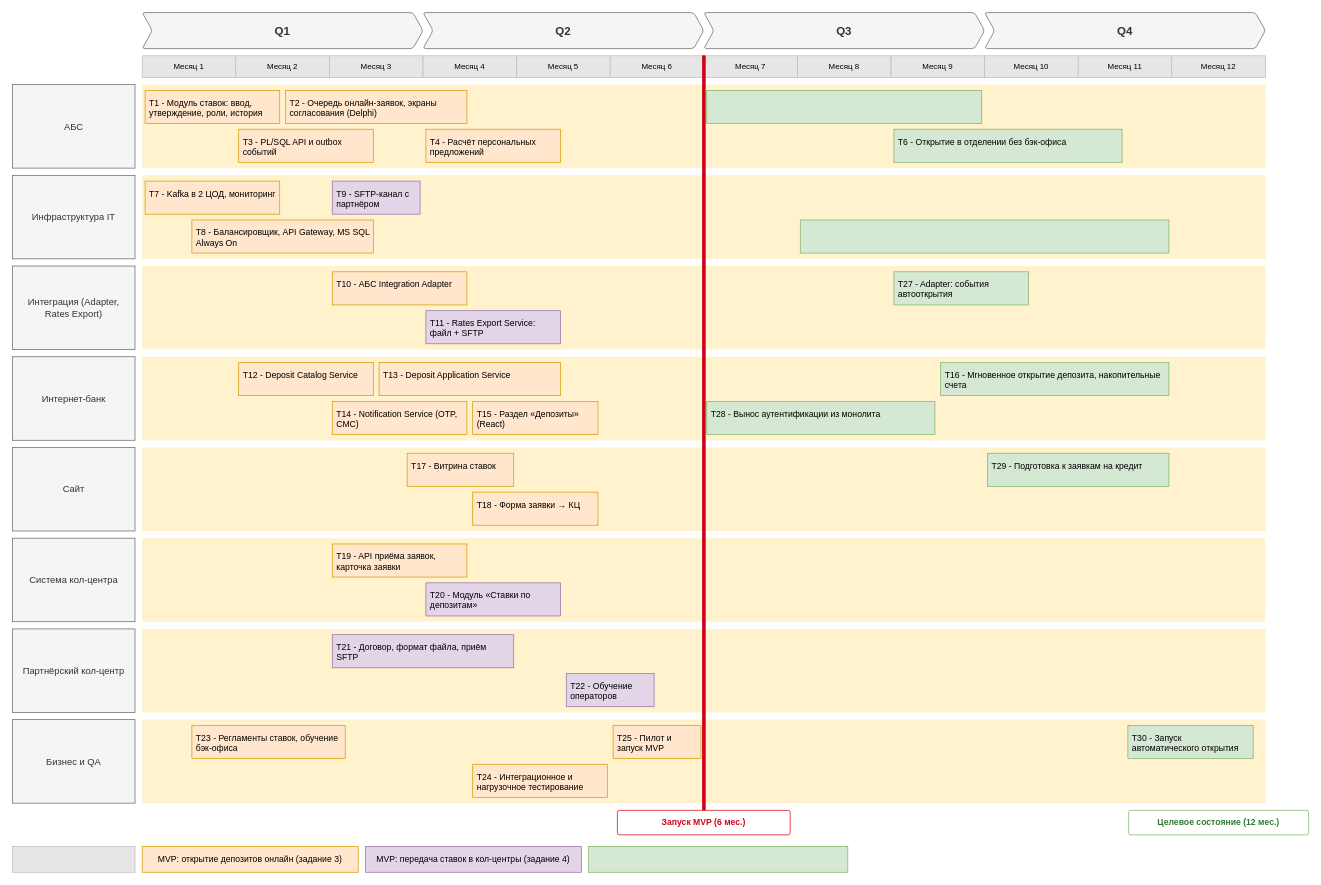
Some shapes in this 1321 by 885 pixel diagram are drawn without their labels. Each missing label, with the box of its shape:
T26 - Active-active ИБ в 2 ЦОД: (800, 219, 1169, 253)
T5 - Правила автосогласования ставки и автооткрытия депозита: (706, 90, 982, 123)
Легенда: (12, 846, 135, 872)
Целевое решение: автоматическое открытие (12 мес.): (588, 846, 848, 872)
